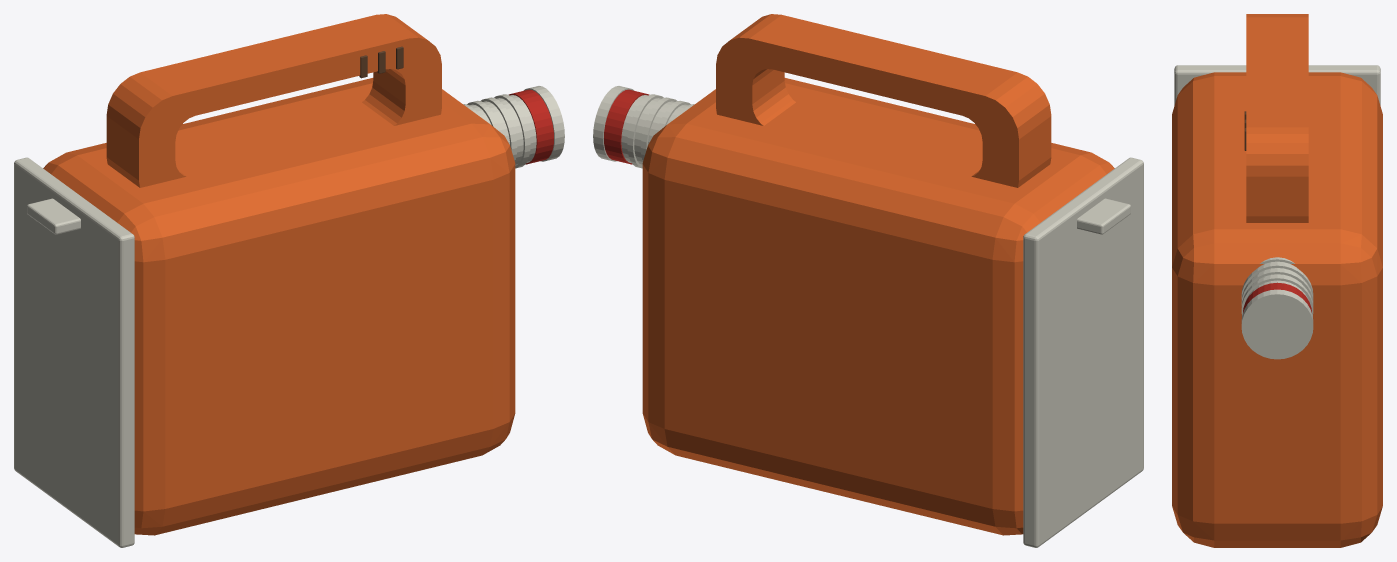
Rendered from full.glb.
3 views of the same model, side by side, from view 1: azimuth 30°, elevation 25°; view 2: azimuth 150°, elevation 25°; view 3: azimuth 270°, elevation 25° (orthographic). The views are drawn at different scales.
Visible parts, largest first — view 1: Rounded closed appliance body, Pale perimeter end plate, Integral arch carrying handle, Short pale external neck, Red exterior neck band, Small projecting end tab, Pale sealed outer rim; view 2: Rounded closed appliance body, Pale perimeter end plate, Integral arch carrying handle, Short pale external neck, Red exterior neck band, Small projecting end tab, Pale sealed outer rim; view 3: Rounded closed appliance body, Integral arch carrying handle, Pale sealed outer rim, Pale perimeter end plate, External neck rib 3, Red exterior neck band, External neck rib 1, External neck rib 2, Short pale external neck.
Part boxes in pixels (x1,y1,x2,y2): Rounded closed appliance body: [43, 78, 515, 535]; Pale perimeter end plate: [14, 157, 134, 547]; Integral arch carrying handle: [106, 14, 441, 187]; Short pale external neck: [469, 95, 536, 165]; Red exterior neck band: [508, 89, 553, 164]; Small projecting end tab: [27, 198, 80, 234]; Pale sealed outer rim: [523, 86, 564, 161]; Rounded closed appliance body: [642, 78, 1114, 535]; Pale perimeter end plate: [1023, 157, 1143, 547]; Integral arch carrying handle: [716, 14, 1051, 187]; Short pale external neck: [621, 95, 688, 165]; Red exterior neck band: [604, 89, 649, 164]; Small projecting end tab: [1077, 198, 1130, 234]; Pale sealed outer rim: [593, 86, 634, 161]; Rounded closed appliance body: [1172, 72, 1382, 547]; Integral arch carrying handle: [1246, 14, 1308, 222]; Pale sealed outer rim: [1241, 289, 1313, 359]; Pale perimeter end plate: [1174, 65, 1380, 105]; External neck rib 3: [1241, 275, 1313, 315]; Red exterior neck band: [1243, 282, 1311, 312]; External neck rib 1: [1241, 263, 1313, 298]; External neck rib 2: [1241, 269, 1313, 304]; Short pale external neck: [1246, 261, 1308, 300].
Size of the model in its own units: 0.45 by 0.3515 by 0.17.
